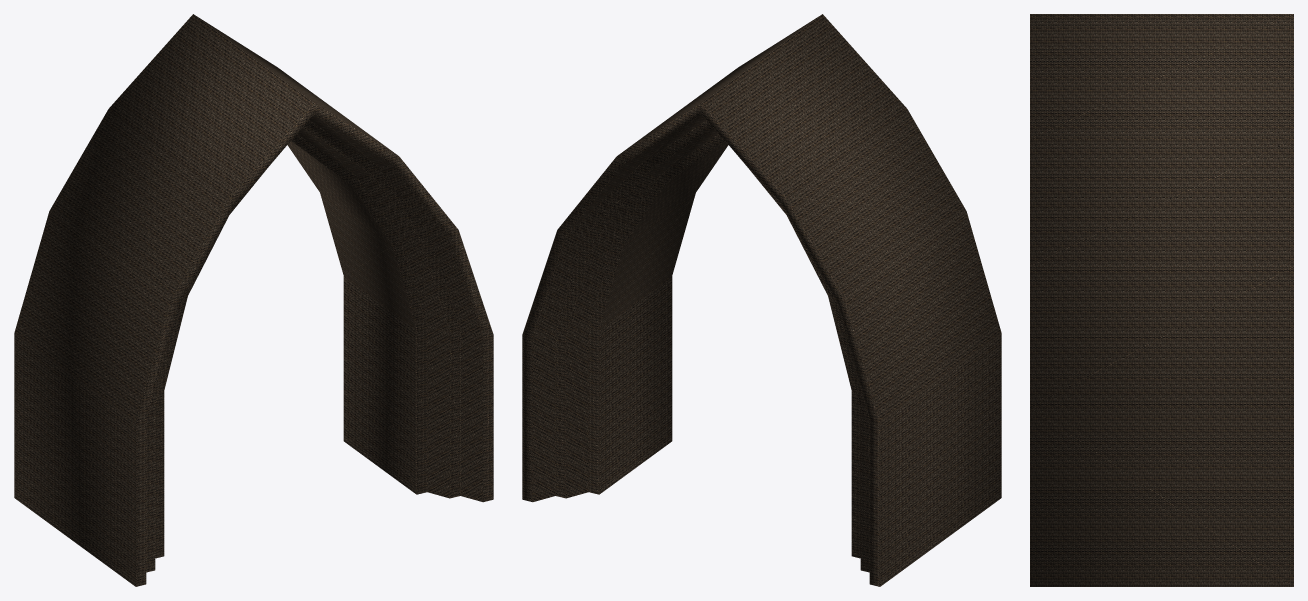
The model's file is SM_Arch_01.gltf.
3 renders of one model, left to right at view 1: azimuth 30°, elevation 25°; view 2: azimuth 150°, elevation 25°; view 3: azimuth 270°, elevation 25°, orthographic. The views are drawn at different scales.
Visible parts, largest first — view 1: SM_Arch_01; view 2: SM_Arch_01; view 3: SM_Arch_01.
Boxes of the visible parts, left/top/right/bottom form: SM_Arch_01: left=14, top=14, right=493, bottom=586; SM_Arch_01: left=522, top=14, right=1001, bottom=586; SM_Arch_01: left=1030, top=14, right=1293, bottom=586.
Size of the model in its own units: 34 by 40 by 20.
1 material, 1 textured.
